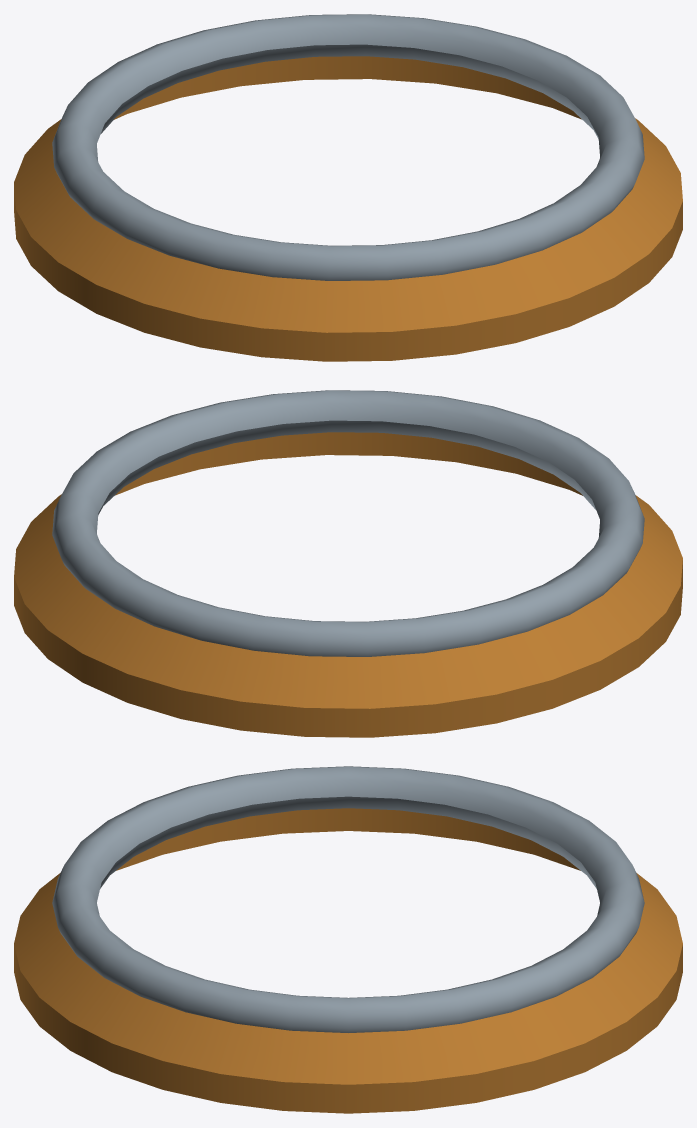
The model's file is flasher-cage.dae.
3 renders of one model, top to bottom at view 1: azimuth 30°, elevation 25°; view 2: azimuth 150°, elevation 25°; view 3: azimuth 270°, elevation 25°, orthographic.
Parts seen in each view (by area): view 1: accent, metal; view 2: accent, metal; view 3: accent, metal.
Boxes of the visible parts, <box> form: accent: <box>14,56,682,361</box>; metal: <box>52,14,644,280</box>; accent: <box>14,432,682,737</box>; metal: <box>52,390,644,656</box>; accent: <box>14,808,682,1113</box>; metal: <box>52,766,644,1032</box>.
Size of the model in its own units: 2.1 by 0.31 by 2.1.
